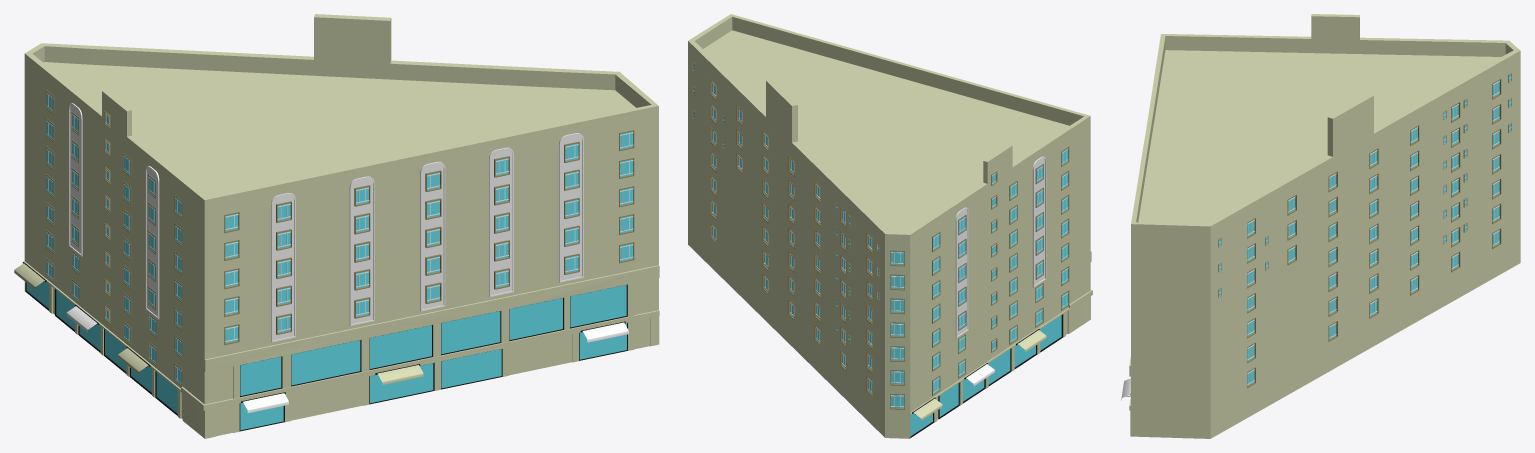
File: SM_Building2.fbx
3 renders of one model, left to right at view 1: azimuth 30°, elevation 25°; view 2: azimuth 150°, elevation 25°; view 3: azimuth 270°, elevation 25°, orthographic. The views are drawn at different scales.
Parts seen in each view (by area): view 1: SM_Building2, Object006; view 2: SM_Building2, Object006; view 3: SM_Building2.
Part boxes in pixels (x1,y1,x2,y2): SM_Building2: [22, 14, 659, 438]; Object006: [14, 263, 423, 384]; SM_Building2: [688, 14, 1092, 438]; Object006: [913, 330, 1046, 420]; SM_Building2: [1121, 14, 1520, 438].
Bounding box in the file's own units: 4968 × 2971 × 4282.
